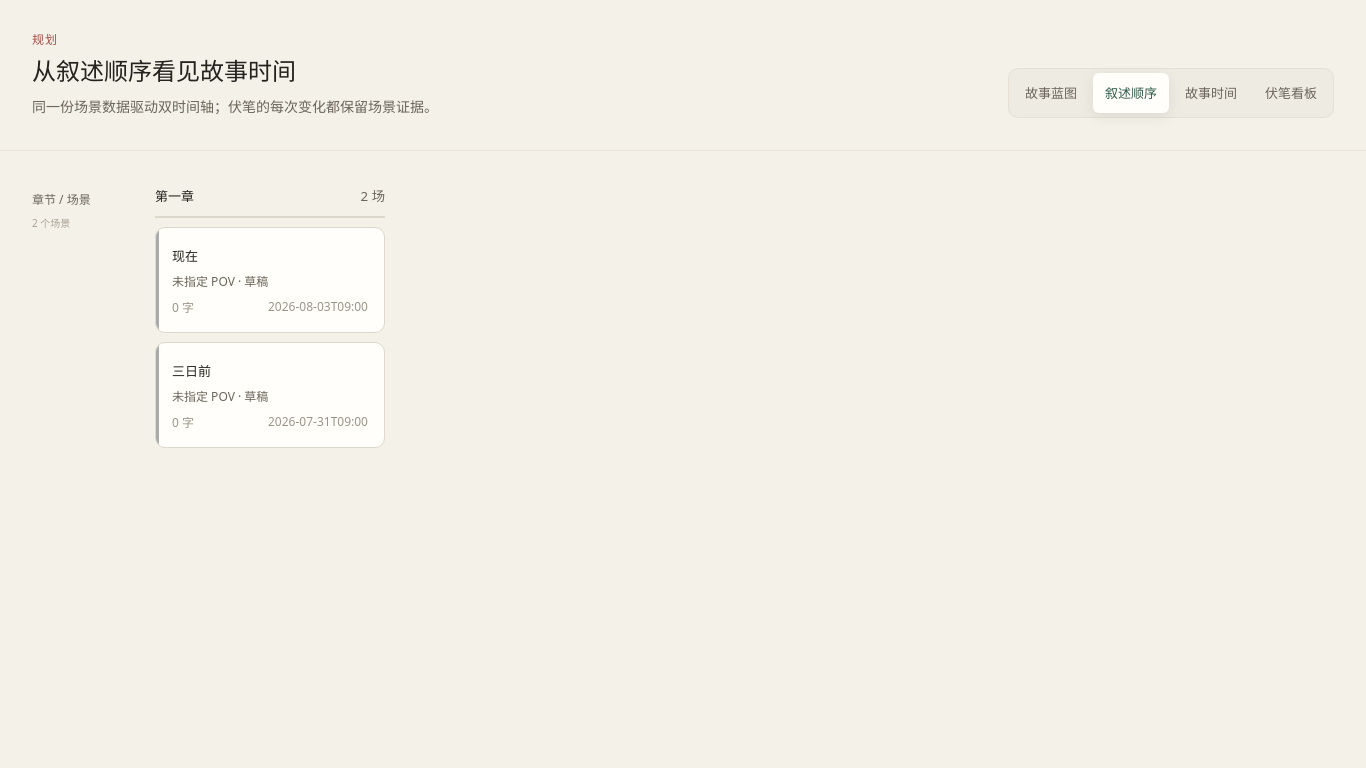
Test: PlotWorkspace › compares narrative order with story-time order without changing scenes
Click the tab "故事时间".
click(1211, 93)  # box [1173, 73, 1249, 113]
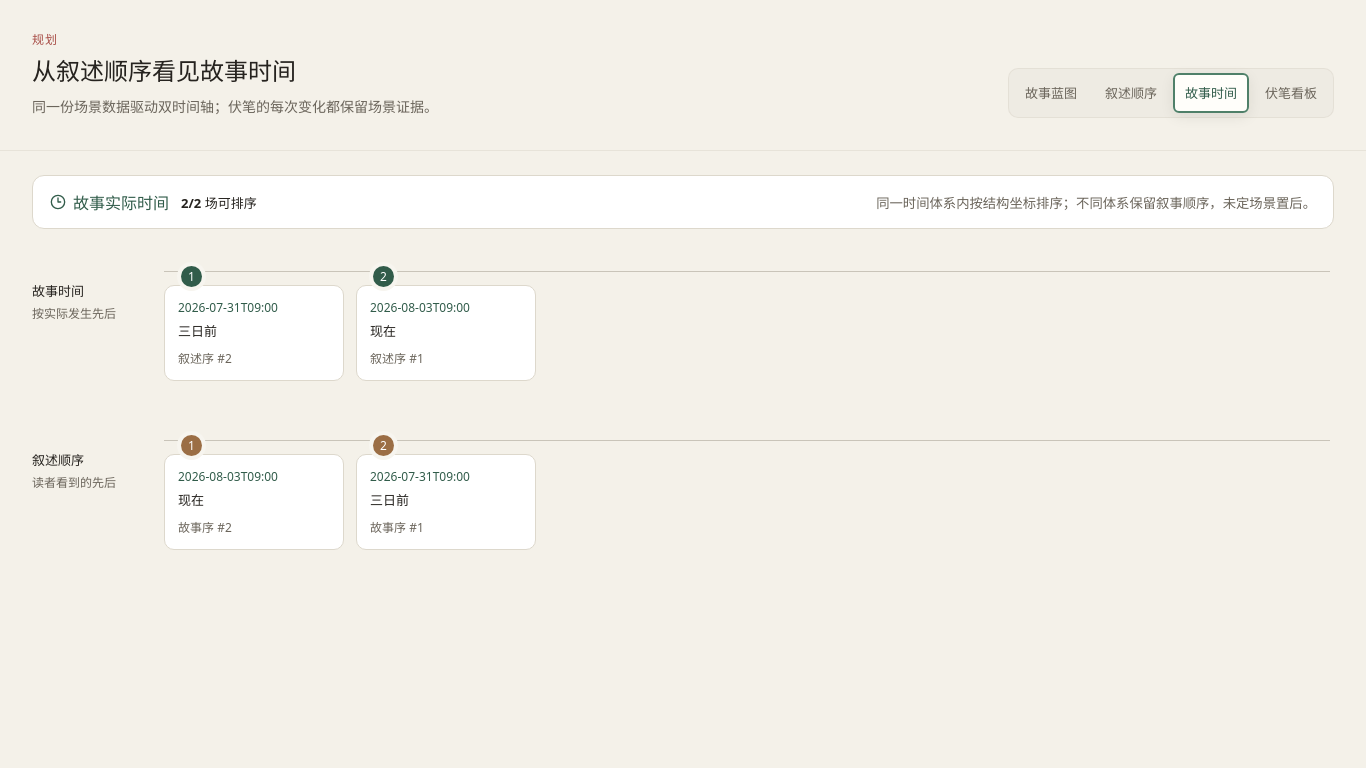
Result: the text "2/2 场可排序" is shown at [181, 192, 257, 212]
